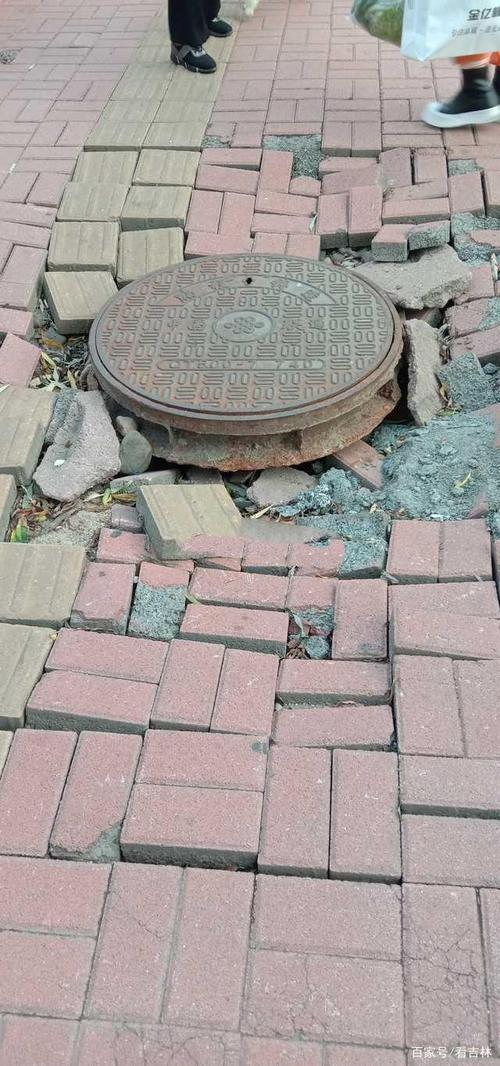circle: (11, 160, 494, 673)
